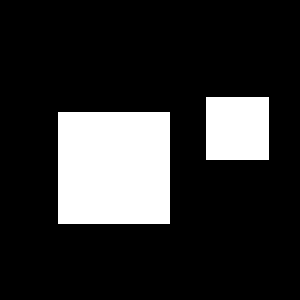circle: (58, 112, 170, 224), (206, 97, 269, 160)
